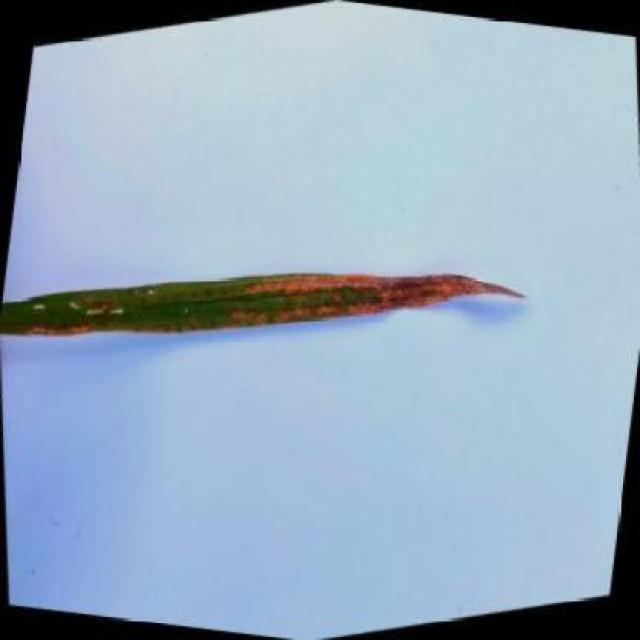Rice False Smut: (180, 242, 523, 368)
